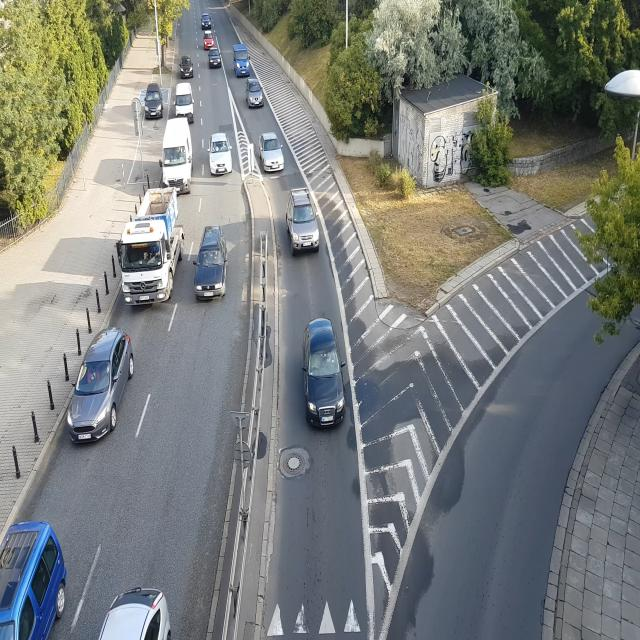car: (65, 328, 139, 448), (0, 517, 66, 640), (298, 312, 351, 436), (94, 586, 181, 640), (285, 188, 325, 257), (192, 226, 228, 299), (162, 122, 194, 194), (257, 130, 285, 173), (209, 127, 232, 179), (143, 86, 165, 120), (232, 43, 252, 79), (247, 76, 264, 110), (177, 82, 193, 116), (206, 52, 220, 72), (181, 49, 193, 72), (202, 16, 212, 30), (204, 33, 213, 45)
truck: (115, 200, 175, 307)
